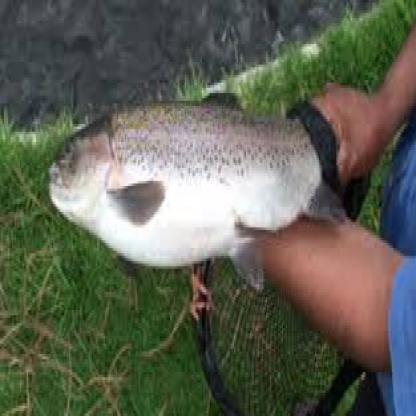fish: (48, 75, 372, 290)
